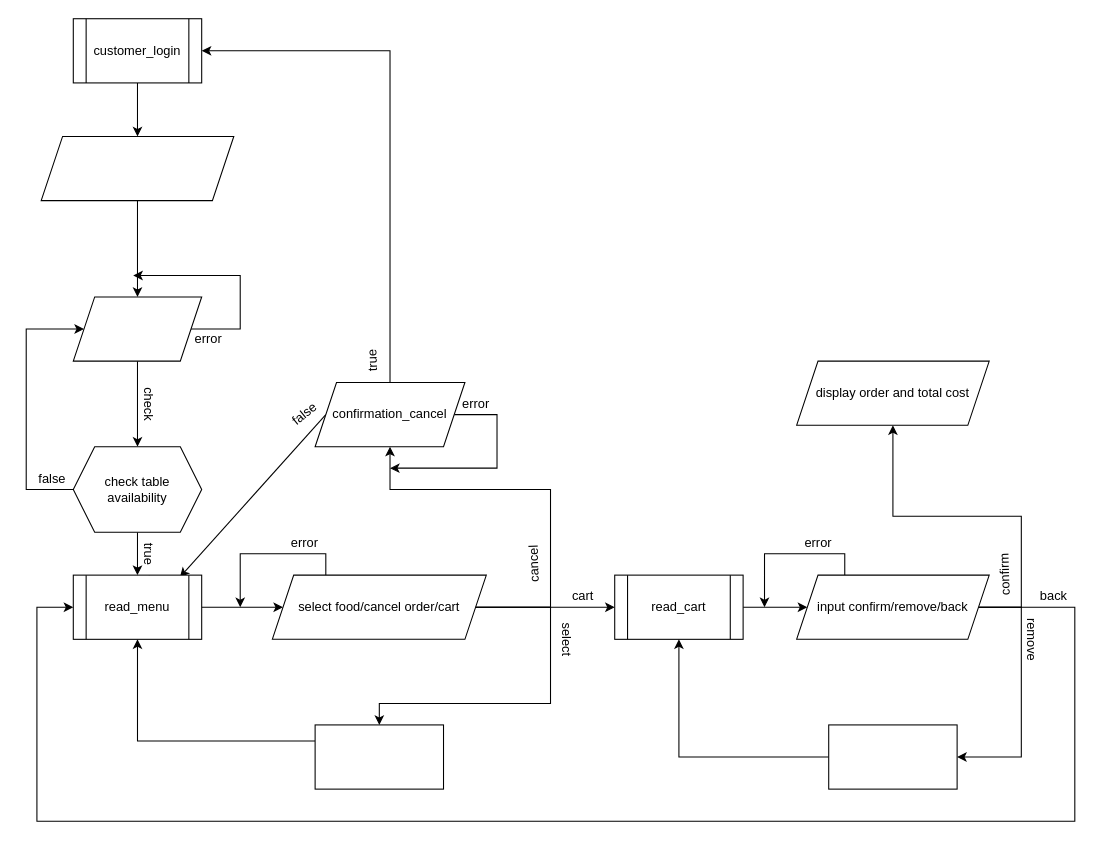
The diagram is 1102 pixels wide and 849 high, and some of its shapes have lost their labels. Here are the shapes that lost their labels. From the top down, the centre of each, then its label:
At pixel 137 168: "display welcome/guidance".
At pixel 137 328: "enter table number".
At pixel 379 756: "food added into cart".
At pixel 892 756: "remove food from cart".
